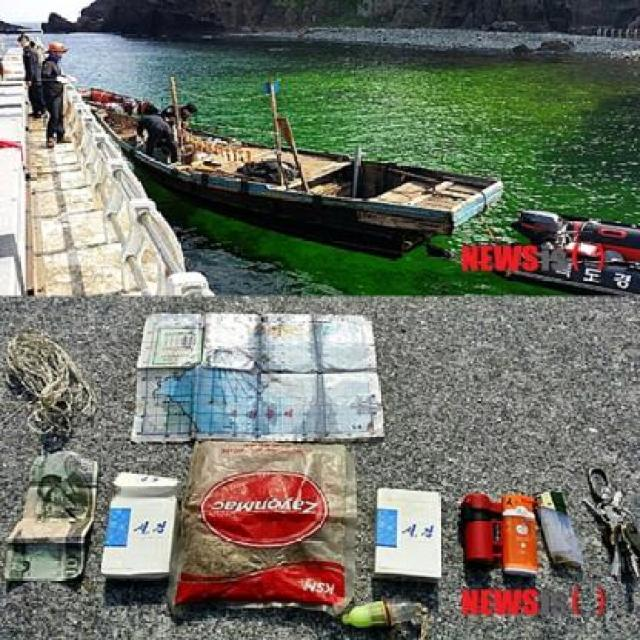fish-b: (90, 97, 512, 262)
